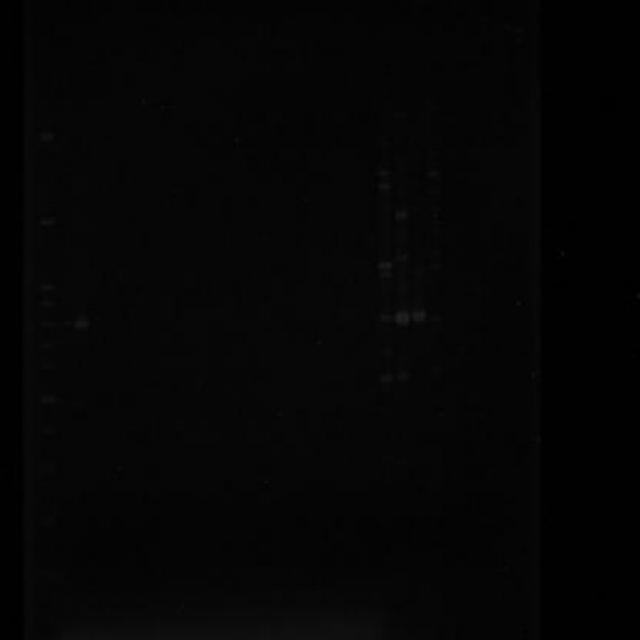B: (394, 310, 412, 326), (72, 318, 90, 330), (378, 372, 393, 386), (378, 312, 393, 325), (378, 260, 393, 272), (394, 210, 408, 222), (412, 310, 426, 322), (394, 370, 408, 382), (427, 314, 442, 323), (427, 188, 441, 197), (378, 272, 393, 280), (426, 169, 440, 177), (378, 182, 392, 190), (394, 255, 409, 262), (376, 170, 392, 176)
M: (30, 121, 61, 544)
P: (36, 127, 56, 144), (34, 391, 56, 406), (35, 278, 54, 294), (36, 296, 56, 310), (36, 216, 56, 230), (38, 339, 57, 350), (38, 318, 54, 330)
